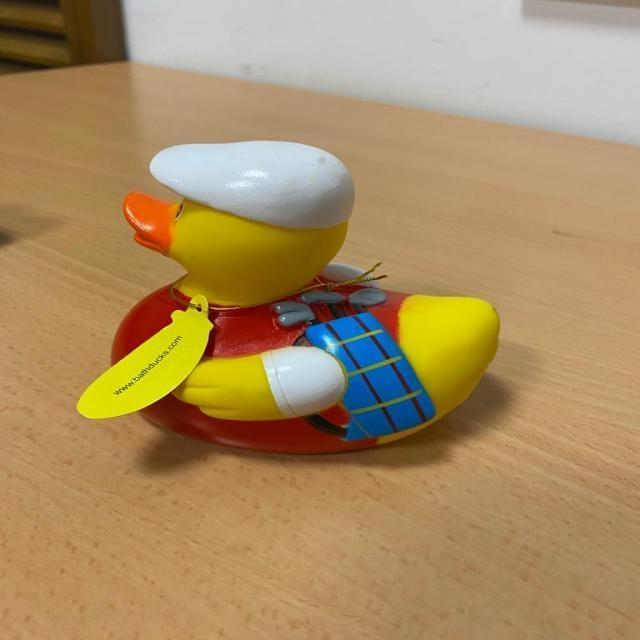rubber-duck: (78, 140, 497, 451)
